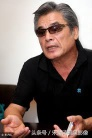male: (30, 5, 87, 76)
